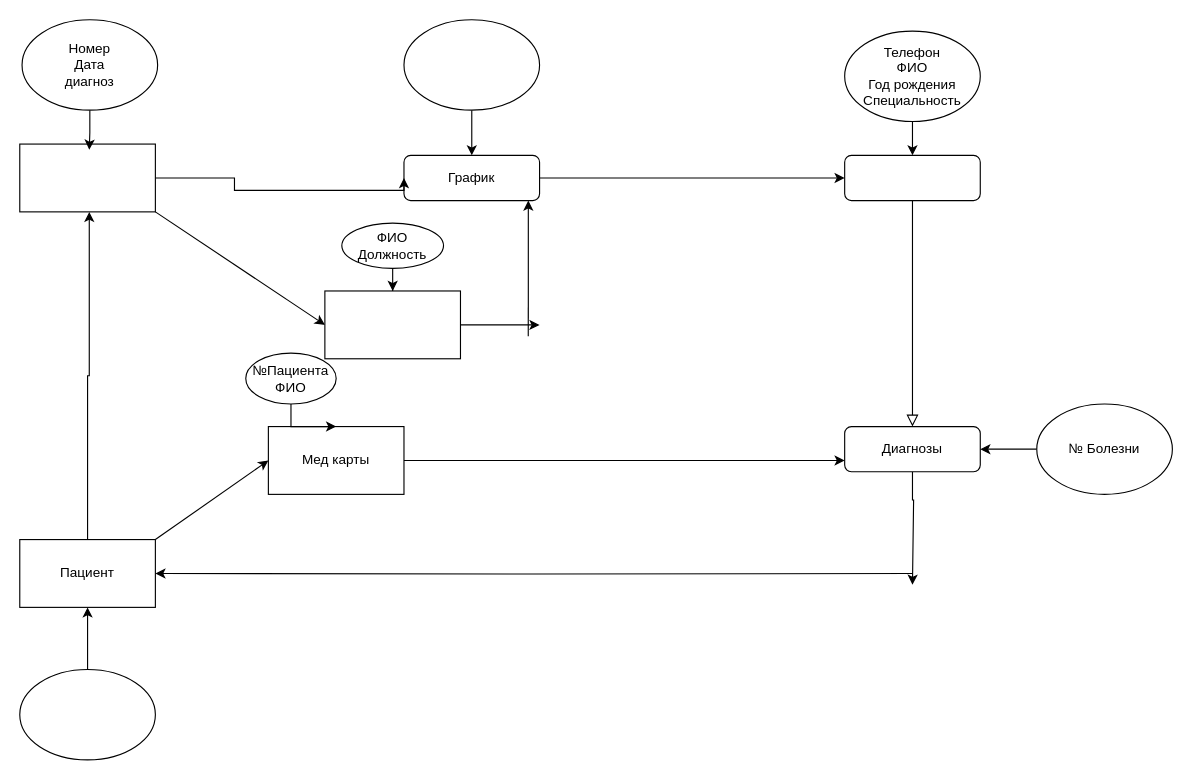
Some shapes in this 1192 by 780 pixel diagram are drawn without their labels. Here are the shapes that lost their labels. From the top down, the centre of each, then its label:
At pixel 471 64: "Врач Дата Пациент".
At pixel 87 177: "Список посещений".
At pixel 912 177: "Врач".
At pixel 392 324: "Сотрудники".
At pixel 87 714: "ФИО Номер Мед карта Диагнозы Информация".
